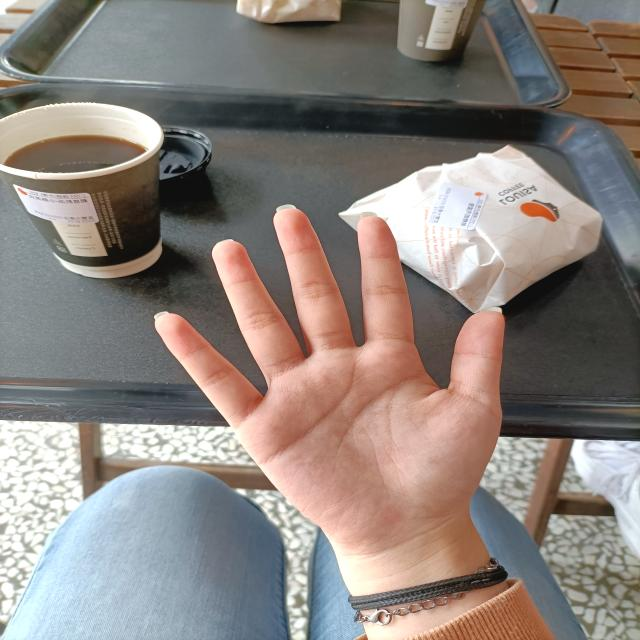no_glove: (138, 186, 518, 562)
